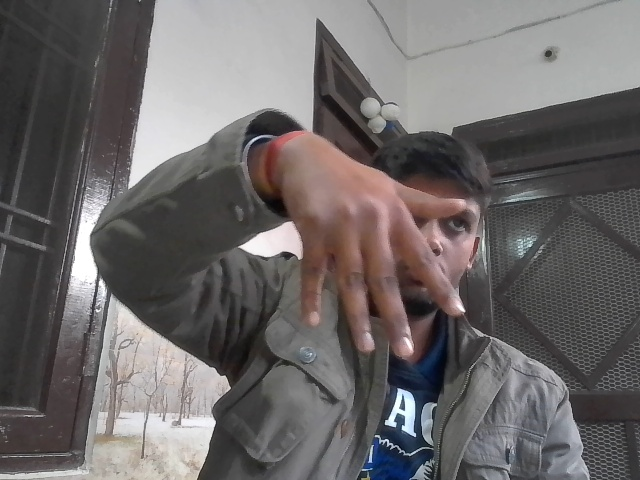HowAreYou: (267, 122, 488, 381)
